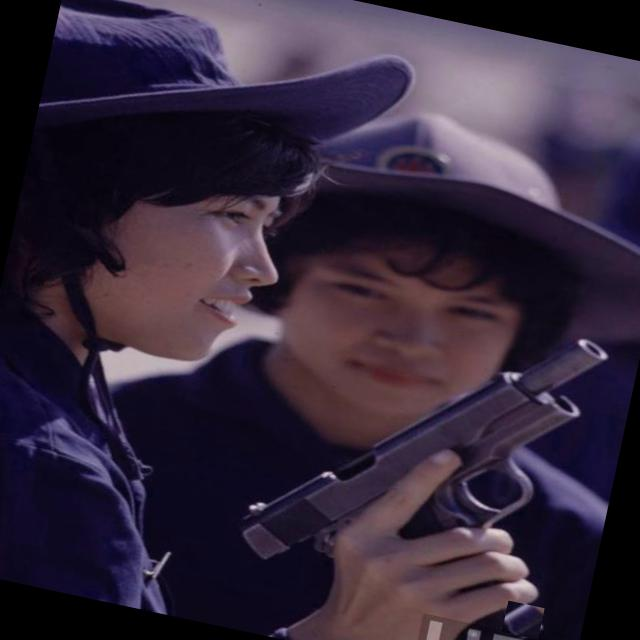Gun: (242, 339, 607, 558), (503, 605, 541, 636)
